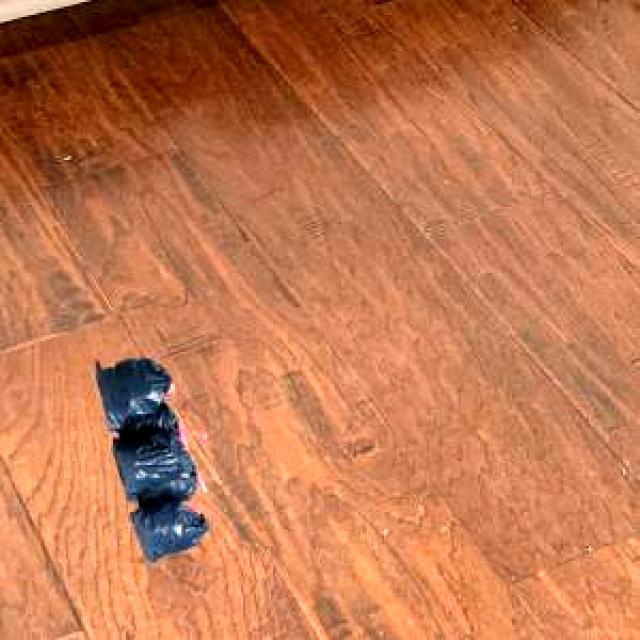Garbage_Bag: (95, 355, 206, 562)
